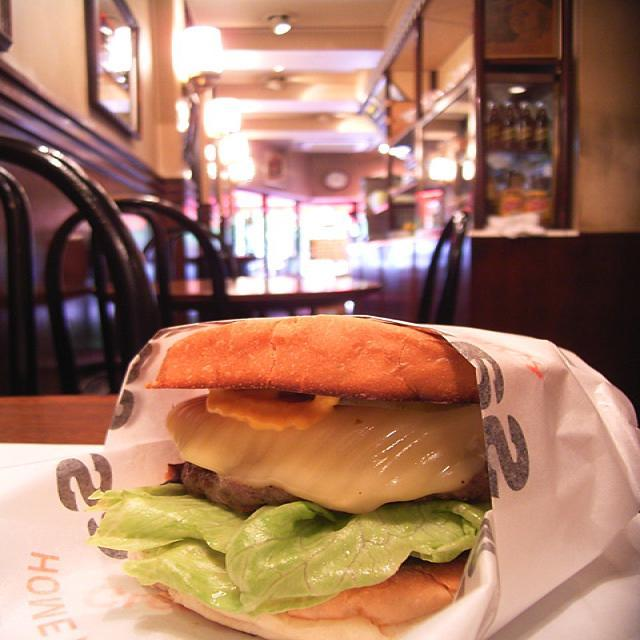Hamburger: (29, 312, 614, 638)
